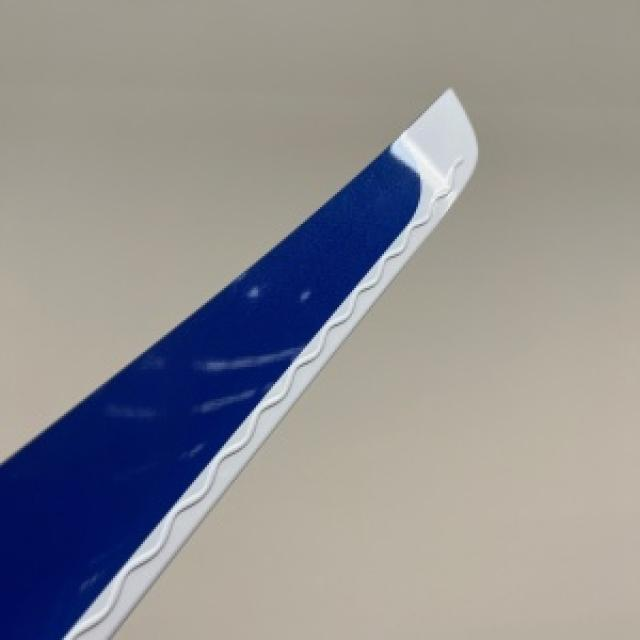healthy: (0, 90, 474, 638)
